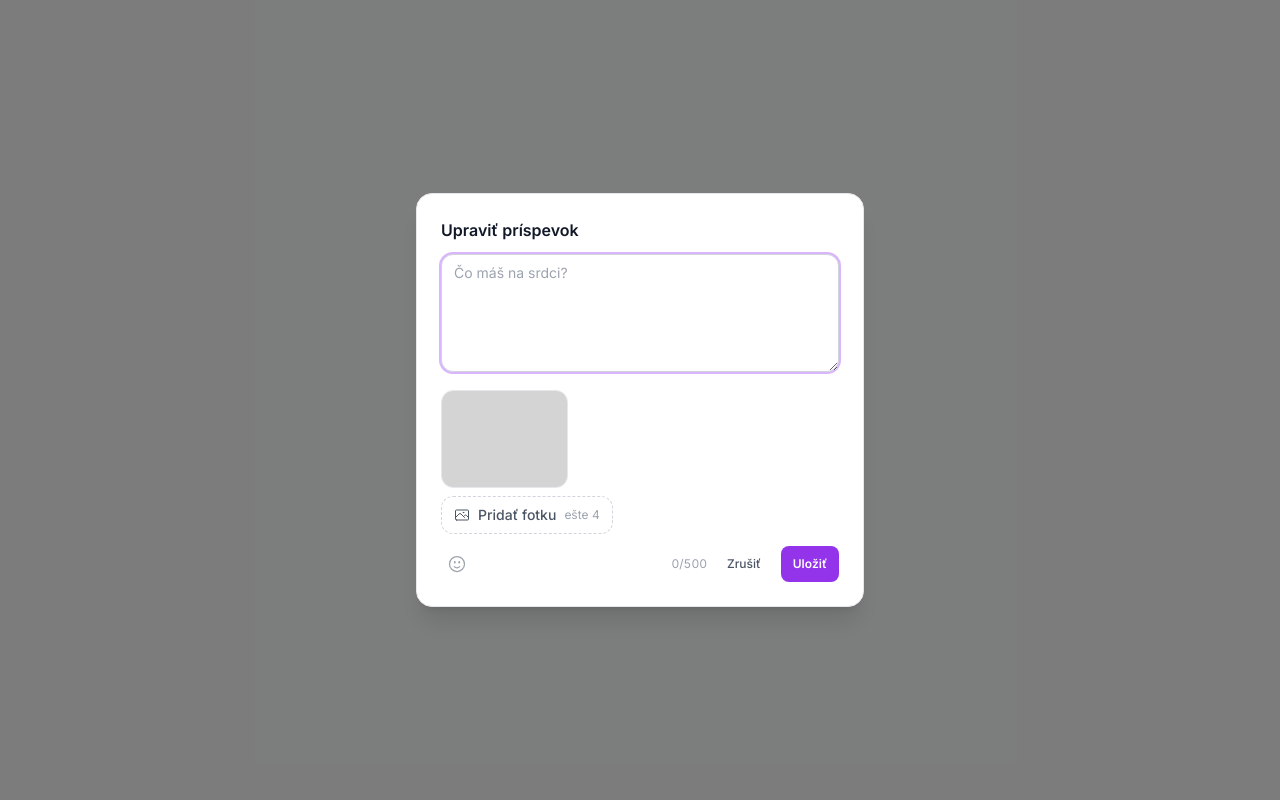
Test case: príspevok nesmie ostať prázdny › brings the remove button back as soon as text is typed
Type "Nieco" into the text box with test id "feed-post-edit-input" at (640, 313), box 441,254 -> 839,372
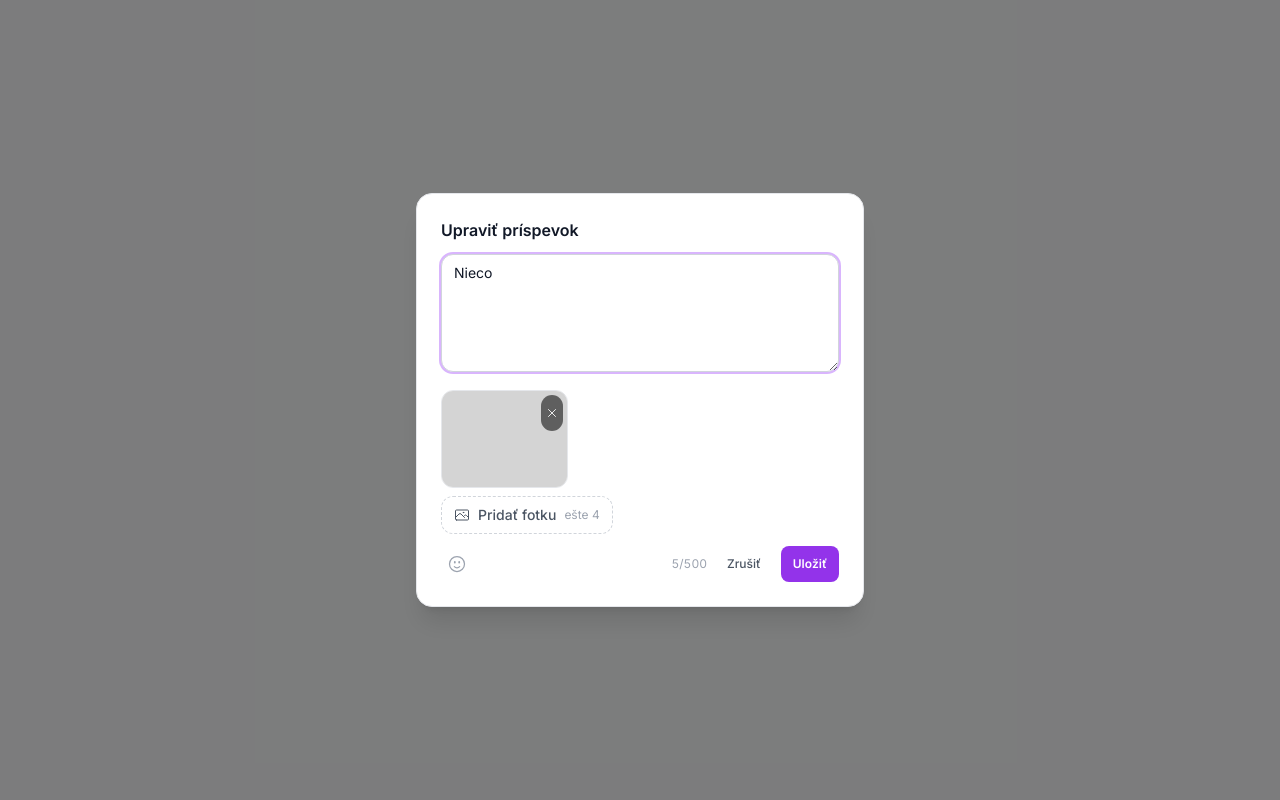
Check: the button with test id "feed-post-edit-photo-remove-11" is enabled, box 541,395 -> 563,431
